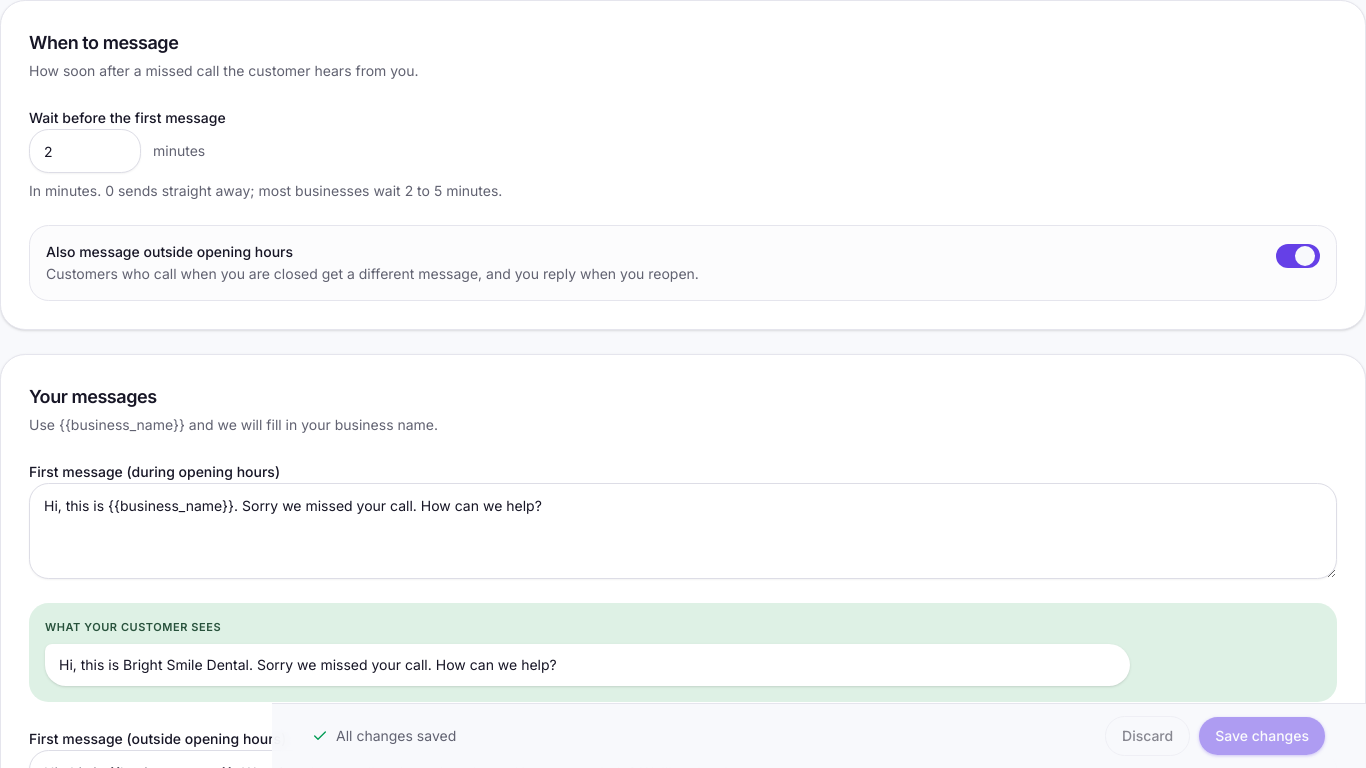
Scenario: MissedCallForm › discards changes back to what was saved
Replace the text in the number field labelled "Wait before the first message" with "30" at (85, 151), box [29,129,141,173]
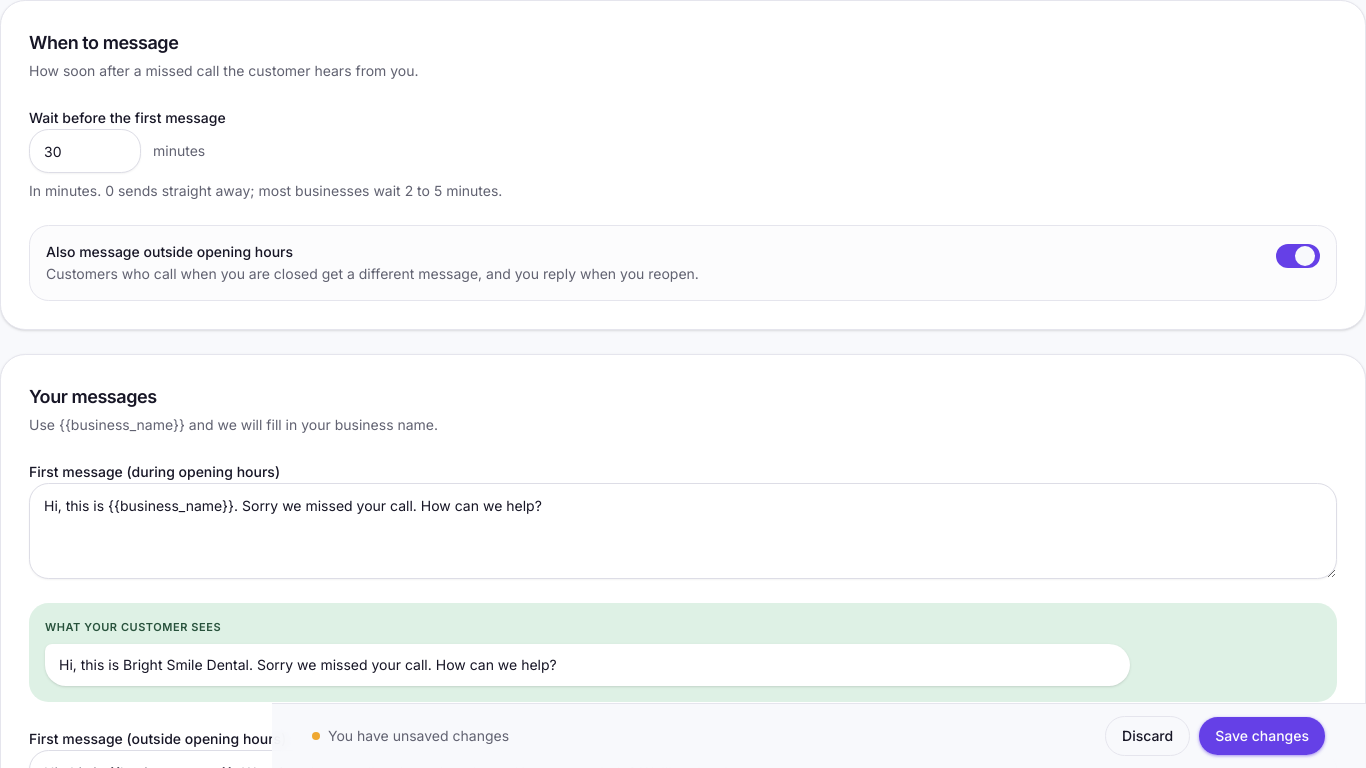
Click the button "Discard" at (1148, 736), box [1105,716,1190,756]
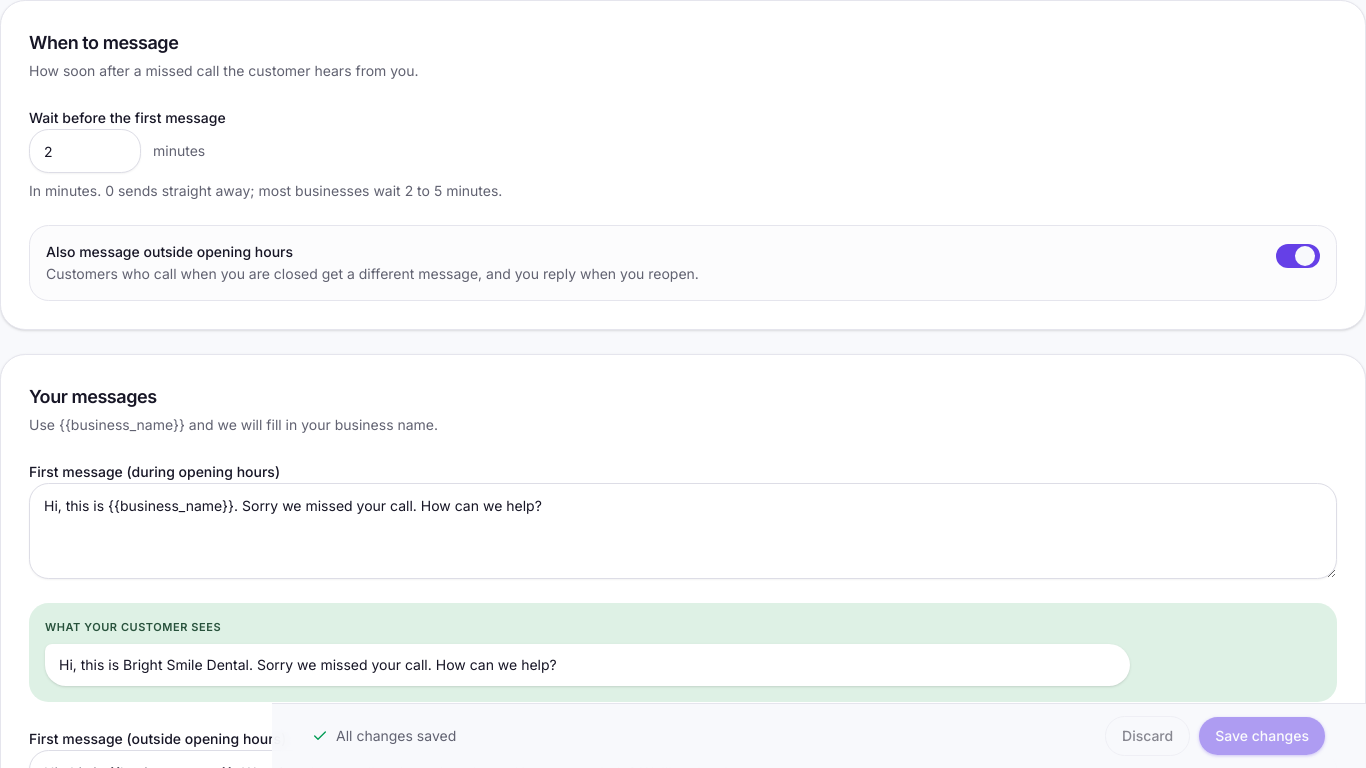
Now the number field labelled "Wait before the first message" holds "2", box [29,129,141,173]
Now the text "All changes saved" is shown, box [312,726,456,746]
